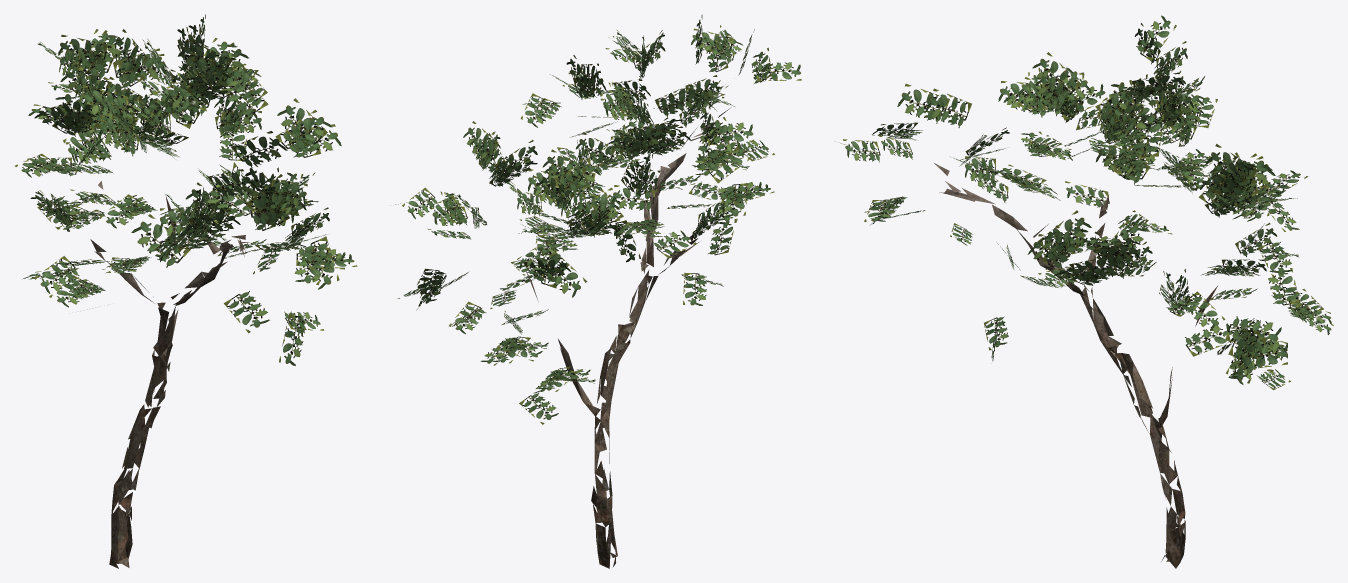
Rendered from arvore-lod.glb.
3 renders of one model, left to right at view 1: azimuth 30°, elevation 25°; view 2: azimuth 150°, elevation 25°; view 3: azimuth 270°, elevation 25°, orthographic. The views are drawn at different scales.
Visible parts, largest first — view 1: Arvore_Real_LowLOD_tree_small_02.001, Arvore_Real_LowLOD_tree_small_02; view 2: Arvore_Real_LowLOD_tree_small_02.001, Arvore_Real_LowLOD_tree_small_02; view 3: Arvore_Real_LowLOD_tree_small_02.001, Arvore_Real_LowLOD_tree_small_02.
Part boxes in pixels (box(x1,y1,x2,y2)): Arvore_Real_LowLOD_tree_small_02.001: box(15, 14, 357, 365); Arvore_Real_LowLOD_tree_small_02: box(90, 196, 249, 568); Arvore_Real_LowLOD_tree_small_02.001: box(395, 14, 801, 424); Arvore_Real_LowLOD_tree_small_02: box(526, 122, 714, 568); Arvore_Real_LowLOD_tree_small_02.001: box(840, 15, 1333, 390); Arvore_Real_LowLOD_tree_small_02: box(945, 181, 1217, 568).
Size of the model in its own units: 2.6 by 4.63 by 4.1.
3 materials, 3 textured.
